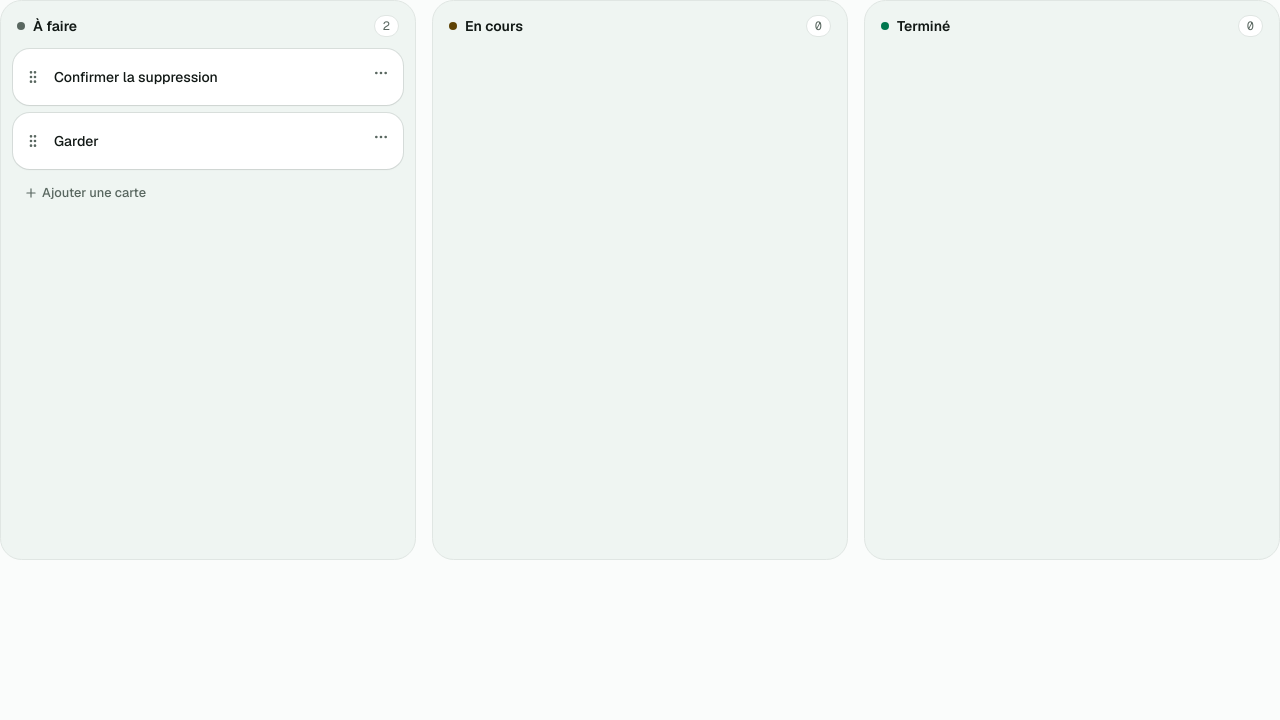
Scenario: BoardView — supprimer une carte définitivement › « Annuler » ferme la confirmation et laisse la carte inchangée
Click the button named "Actions pour « Confirmer la suppression »".
click(381, 73)  # box [367,59,395,87]
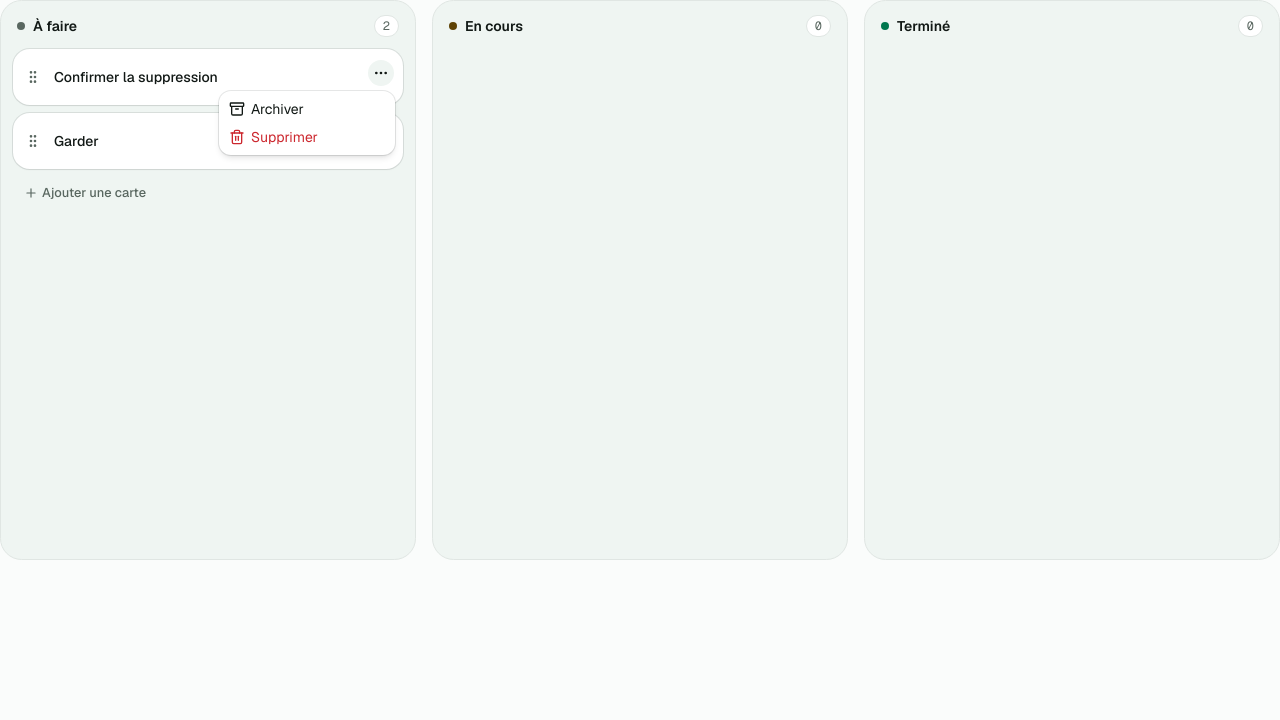
Click the menu item "Supprimer".
click(273, 137)  # box [229,128,318,146]
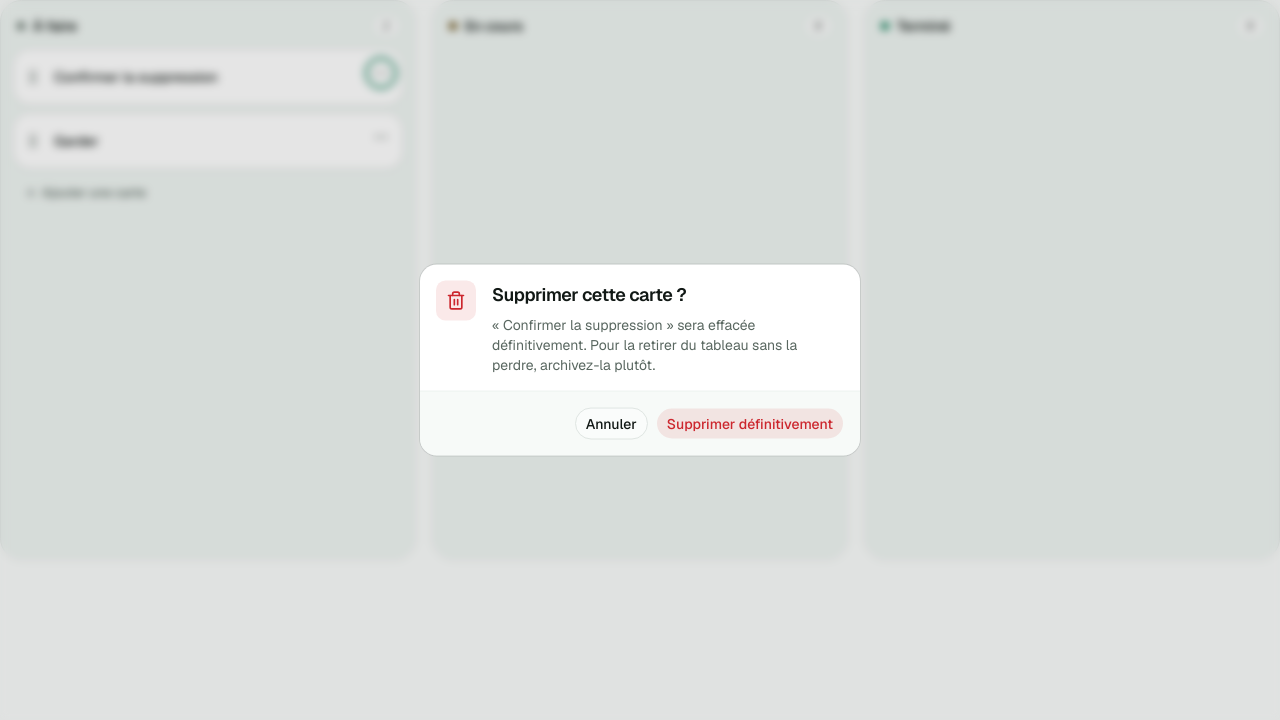
Click the button "Annuler".
click(611, 424)  # box [575,408,648,440]
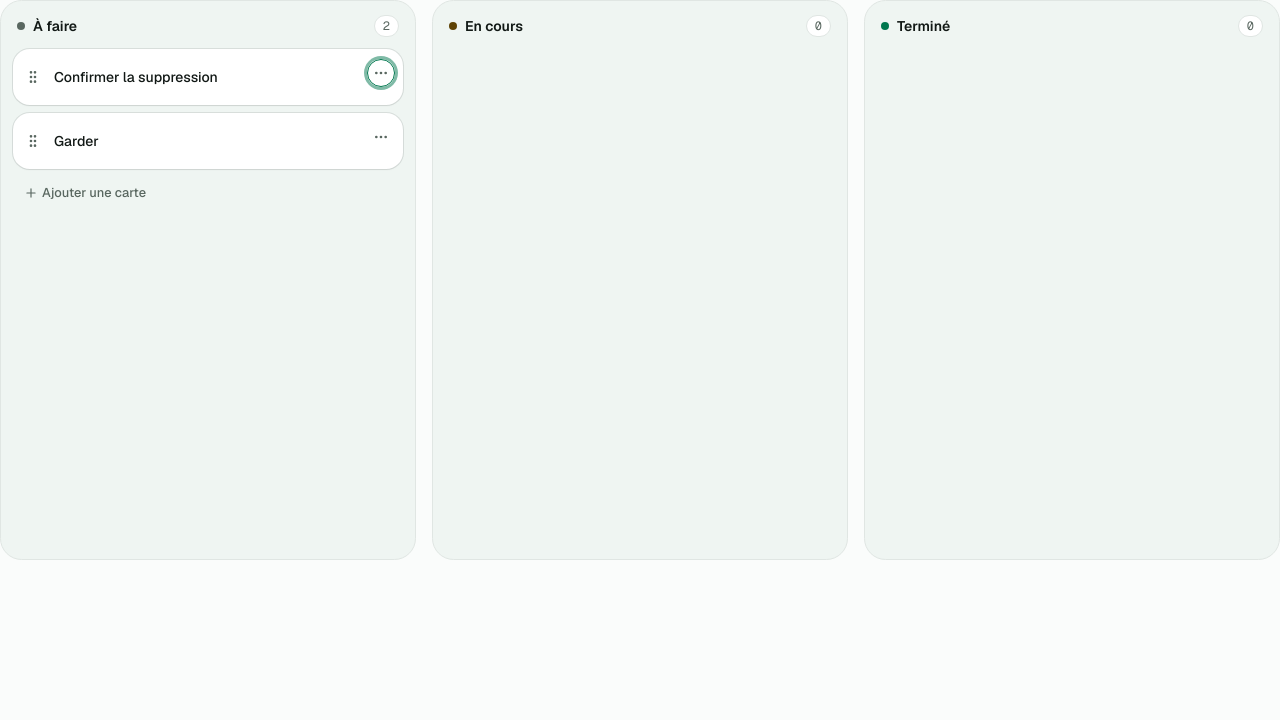
Expected: the dialog is gone
